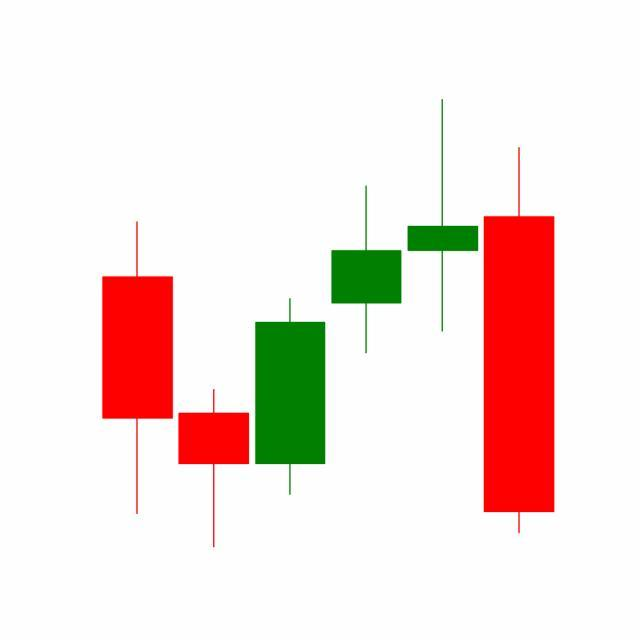Three Line Strike: (251, 100, 555, 539)
